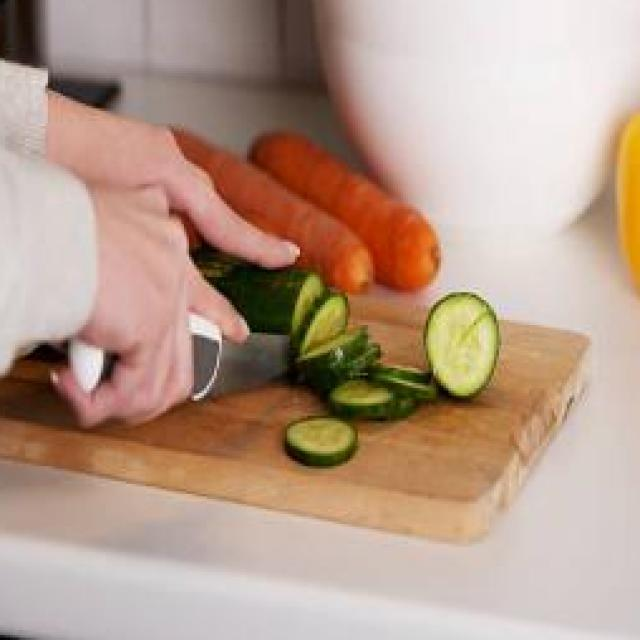knife: (63, 308, 309, 424)
